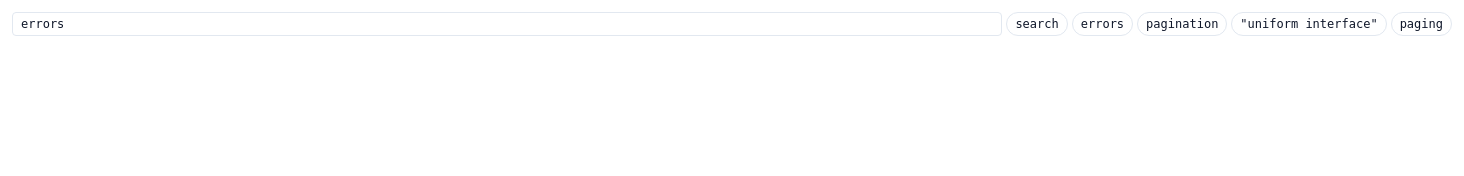
SearchDemo › renders the error panel when the search fails
Click the button with test id "search-run" at {"x": 1037, "y": 24}, box [1006,12,1068,36]
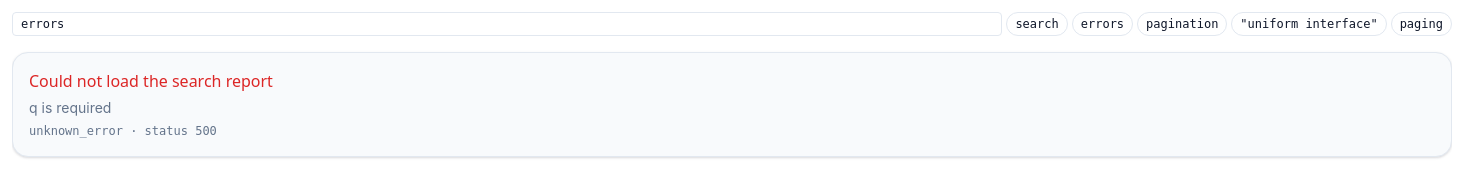
Now the text "q is required" is shown, box [29,99,112,116]
